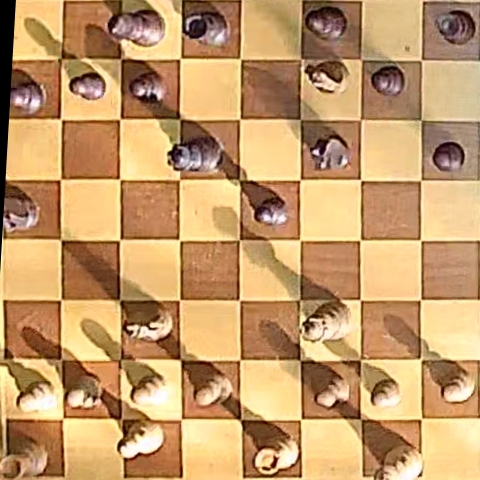black-king: (109, 9, 165, 46)
black-knight: (4, 190, 40, 233), (310, 137, 349, 170)
black-pawn: (305, 6, 347, 40), (10, 80, 47, 114), (130, 72, 167, 103), (371, 66, 405, 96), (255, 196, 288, 226), (70, 73, 105, 101), (433, 142, 465, 171)
black-queen: (167, 136, 223, 172)
black-rook: (182, 10, 230, 47), (438, 10, 476, 44)
white-bishop: (119, 420, 163, 458)
white-king: (376, 445, 423, 479)
white-knight: (124, 301, 174, 341), (305, 61, 348, 94)
white-pawn: (437, 368, 474, 407), (195, 371, 232, 407), (66, 375, 102, 410), (17, 382, 57, 413), (315, 374, 350, 408), (131, 374, 168, 406), (371, 379, 401, 408)
white-queen: (303, 300, 351, 342)
white-rook: (254, 434, 299, 475), (2, 439, 48, 478)
